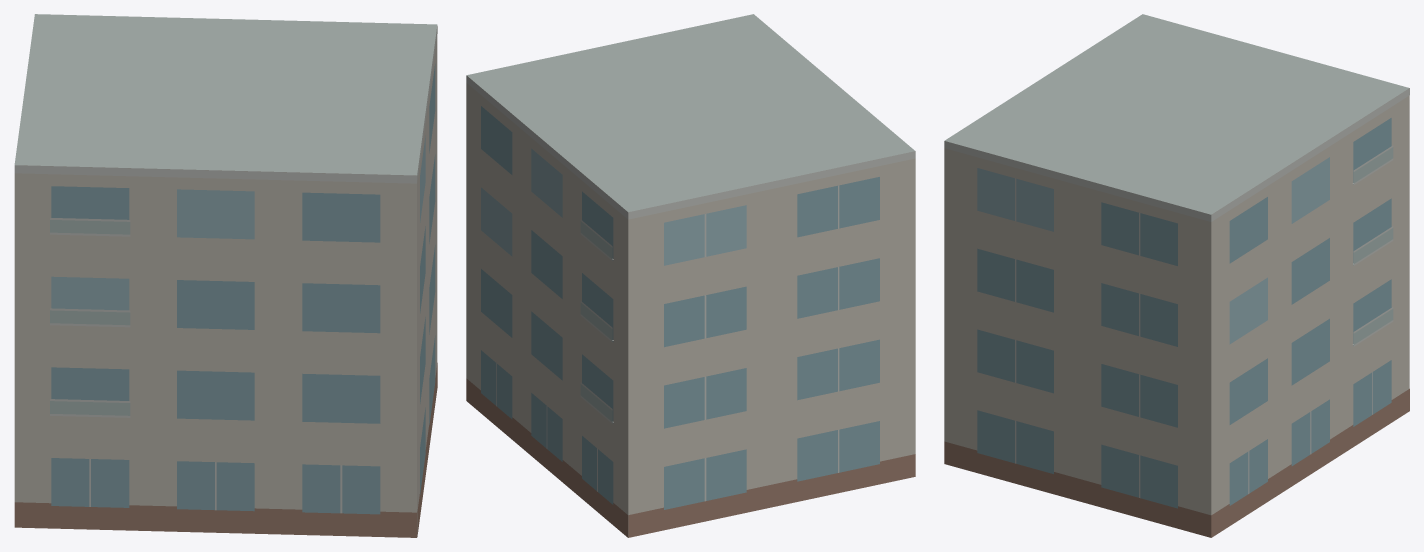
The model's file is survey-upis-32933020.glb.
3 renders of one model, left to right at view 1: azimuth 30°, elevation 25°; view 2: azimuth 150°, elevation 25°; view 3: azimuth 270°, elevation 25°, orthographic. The views are drawn at different scales.
Visible parts, largest first — view 1: survey-upis-32933020.tmp; view 2: survey-upis-32933020.tmp; view 3: survey-upis-32933020.tmp.
Boxes of the visible parts, box(x1,y1,x2,y2) form: survey-upis-32933020.tmp: box(14, 14, 437, 537); survey-upis-32933020.tmp: box(466, 14, 915, 537); survey-upis-32933020.tmp: box(944, 14, 1409, 537).
Size of the model in its own units: 14.4 by 10.8 by 14.11.
